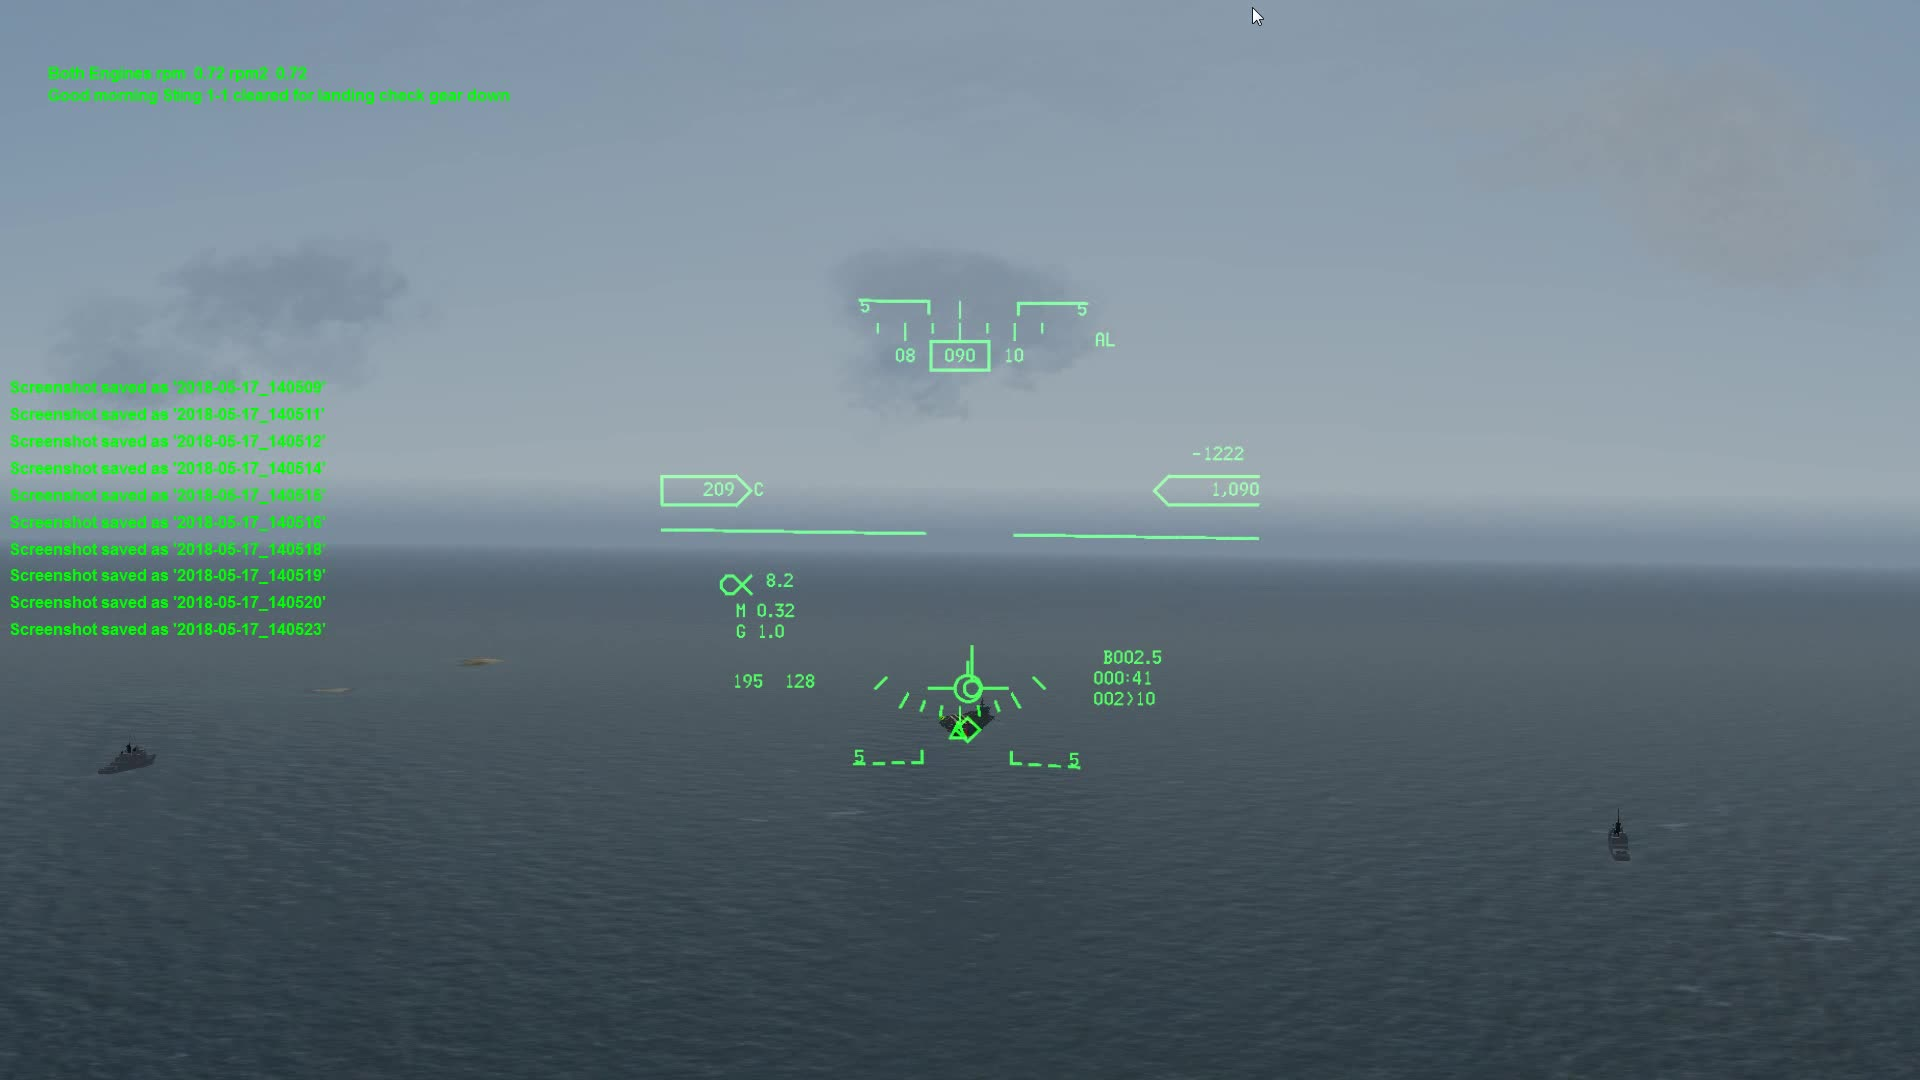speed vector: (915, 634, 1021, 705)
